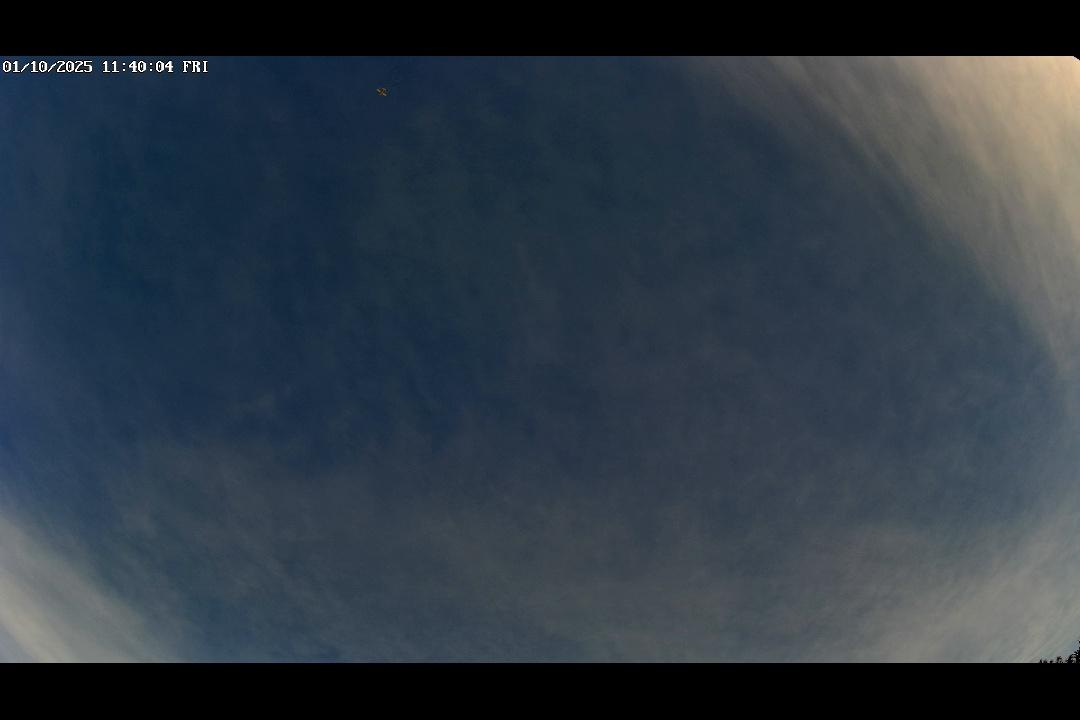Plane: (366, 79, 399, 102)
